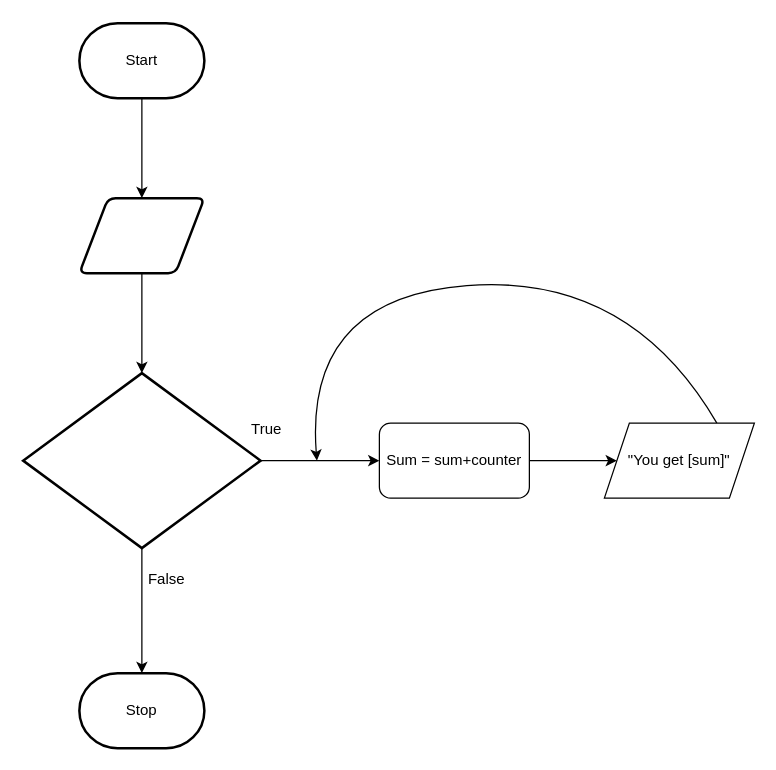
Image size: 776x770. Some labels were removed from this diagram. The centre of each missing label's shape, as x and y in pixels:
Enter number: (x=141, y=235)
for (let loop = 0; loop < number) loop++: (x=141, y=460)
